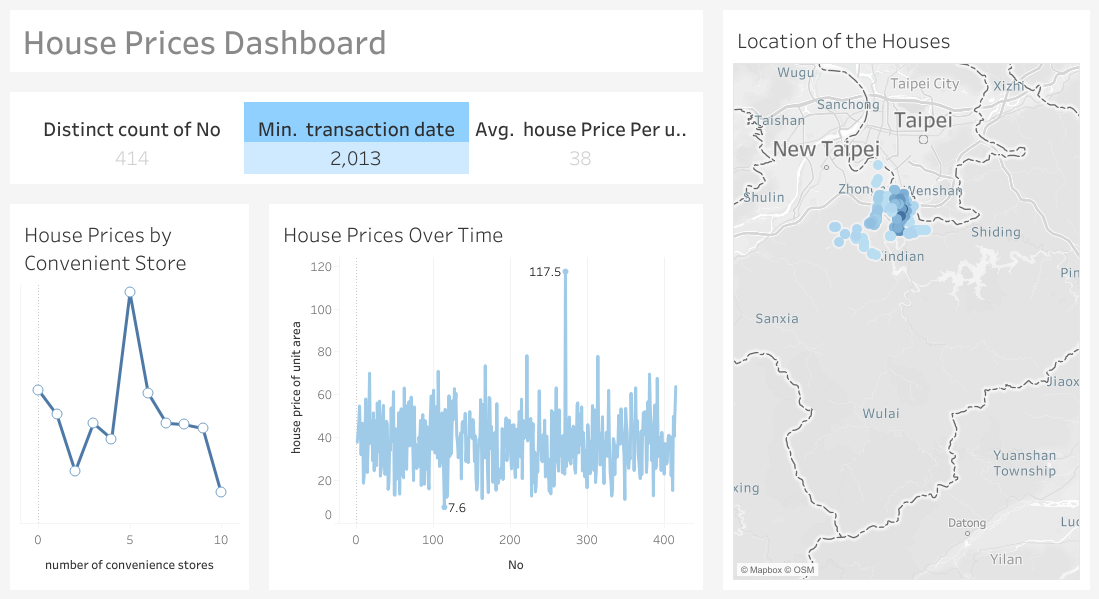

Layout of this report page (visuals, bound fields, positions):
{"tool":"tableau","page":{"name":"Dashboard 1","canvas":[1100,600],"ordinal":0},"visuals":[{"type":"text","box":[0,0,713,82]},{"type":"worksheet","title":"Location of the Houses","mark":"Automatic","rows":["X5 latitude"],"cols":["X6 longitude"],"box":[713,0,387,600]},{"type":"legend","title":"Location of the Houses","param":"[federated.1ahgh5k1eychx31e9vynu0e5bggm].[sum:X4 number of convenience stores:qk","box":[932,8,160,65]},{"type":"filter","title":"House Prices by Convenient Store  ","param":"[federated.1ahgh5k1eychx31e9vynu0e5bggm].[none:Y house price of unit area:qk]","box":[932,73,160,69]},{"type":"worksheet","title":"KPI","mark":"Automatic","box":[0,82,713,112]},{"type":"worksheet","title":"House Prices by Convenient Store  ","mark":"Automatic","rows":["Y house price of unit area","Y house price of unit area"],"cols":["X4 number of convenience stores"],"box":[0,194,259,406]},{"type":"worksheet","title":"House Prices Over Time","mark":"Line","rows":["Y house price of unit area"],"cols":["No"],"box":[259,194,454,406]}]}

Visuals, with their boxes in screenshot pixels (x1, y1, x2, y2), scaled from the page's 1100x600 canvas onto the 1099x599 screenshot:
text: 0,0,712,82
"Location of the Houses" worksheet: 712,0,1098,598
"Location of the Houses" legend: 931,8,1091,73
"House Prices by Convenient Store  " filter: 931,73,1091,142
"KPI" worksheet: 0,82,712,194
"House Prices by Convenient Store  " worksheet: 0,194,259,598
"House Prices Over Time" worksheet (Line marks): 259,194,712,598
